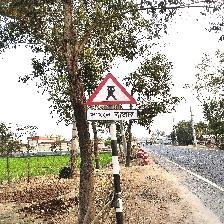Market-in-front: (85, 73, 140, 123)
